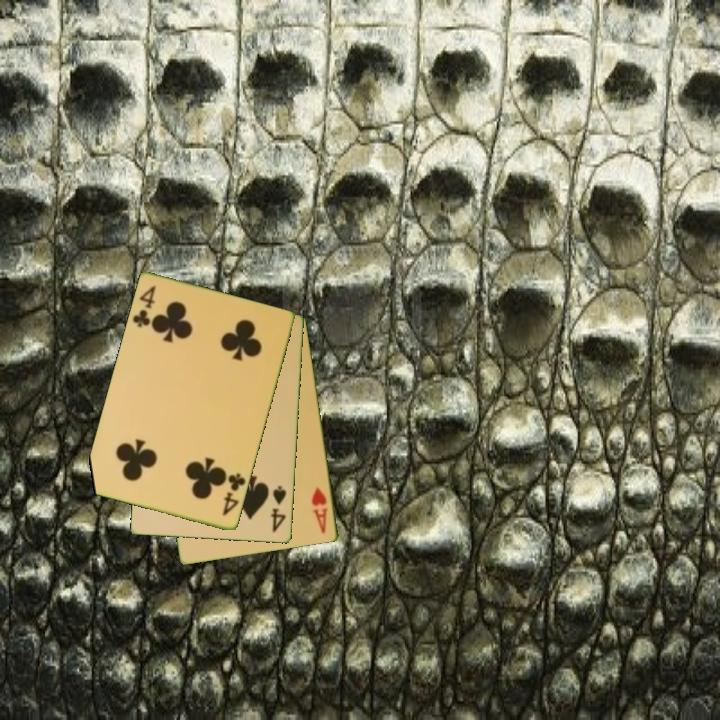4c: (219, 470, 249, 519), (129, 282, 159, 331)
4s: (267, 483, 290, 535)
Ah: (308, 484, 331, 536)
